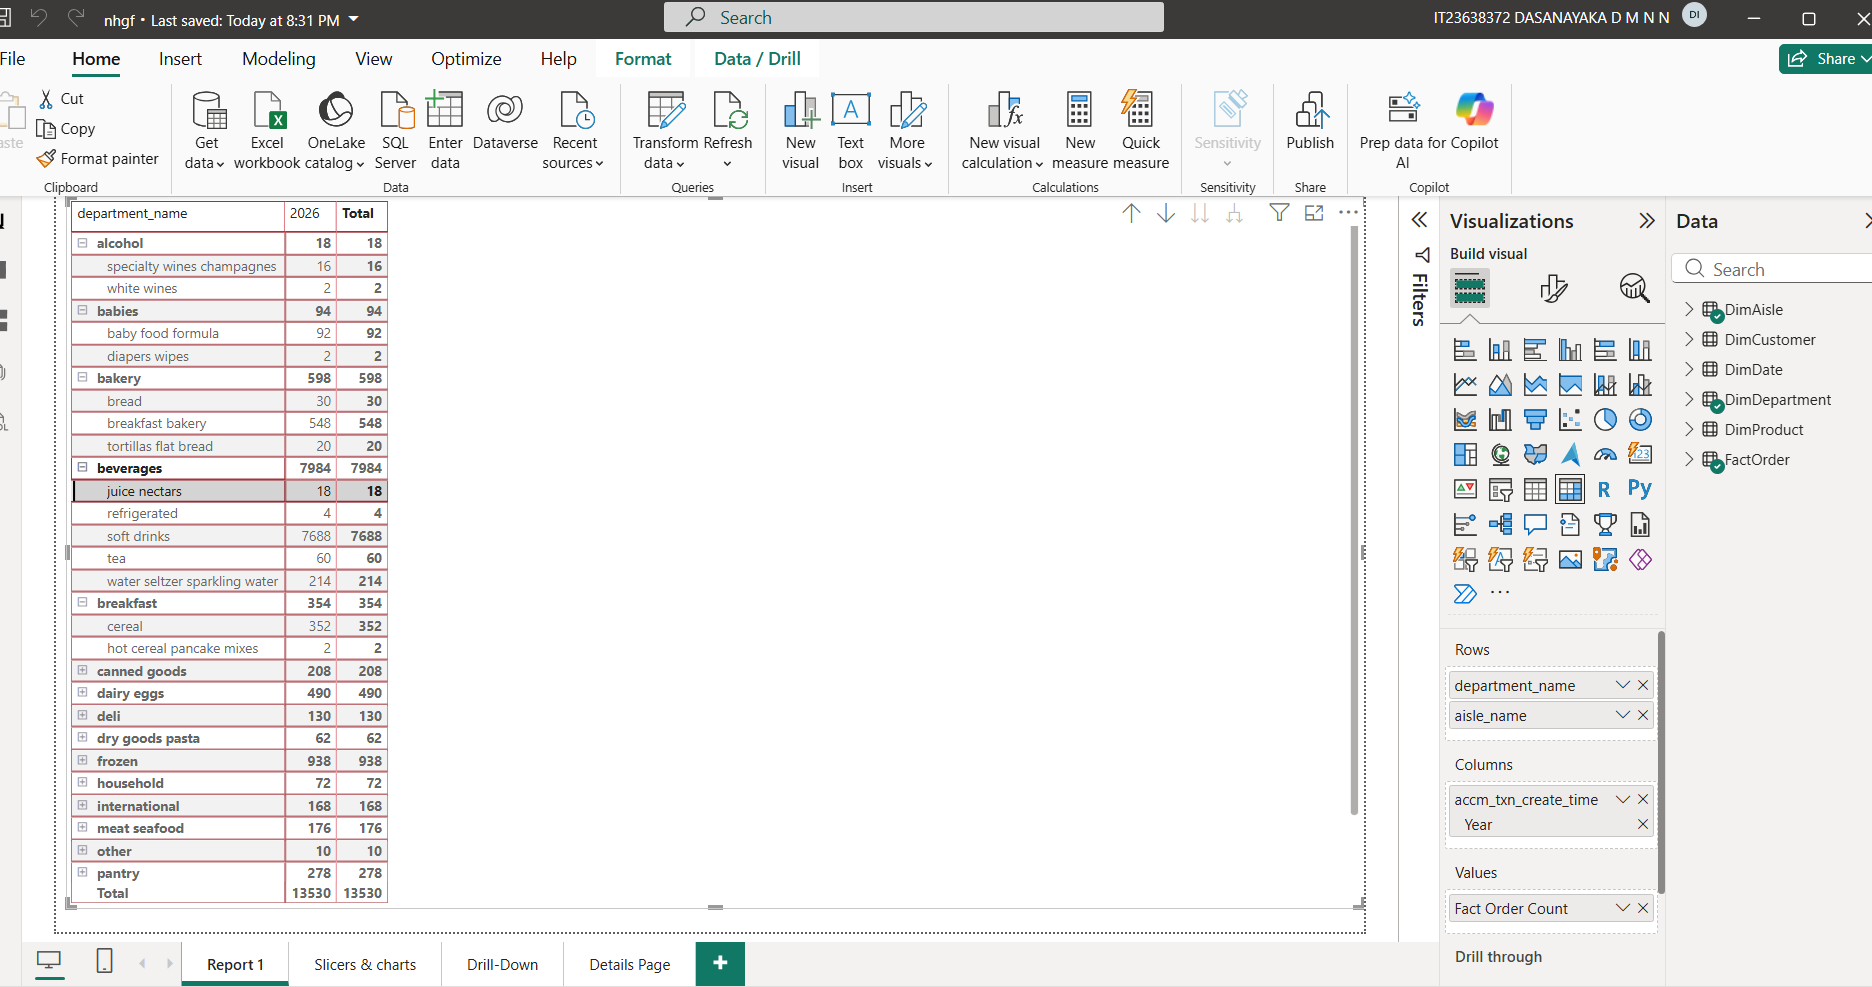

The dashboard page shown, as its layout file describes it:
{"tool":"powerbi","page":{"name":"Report 1","canvas":[1280,720],"ordinal":0},"visuals":[{"type":"pivotTable","fields":{"Rows":["DimDepartment.department_name","DimAisle.aisle_name"],"Values":["FactOrder.Fact Order Count"],"Columns":["FactOrder.accm_txn_create_time.Variation.Date Hierarchy.Year"]},"box":[10,0,1270,697.1],"z":0}]}

Visuals, with their boxes on the page's 1280x720 design canvas (x1, y1, x2, y2). These are canvas units, not pixel positions in the 1872x987 screenshot, which may show the page scaled, cropped or inside an application window:
pivotTable - DimDepartment.department_name x DimAisle.aisle_name: x1=10, y1=0, x2=1280, y2=697
